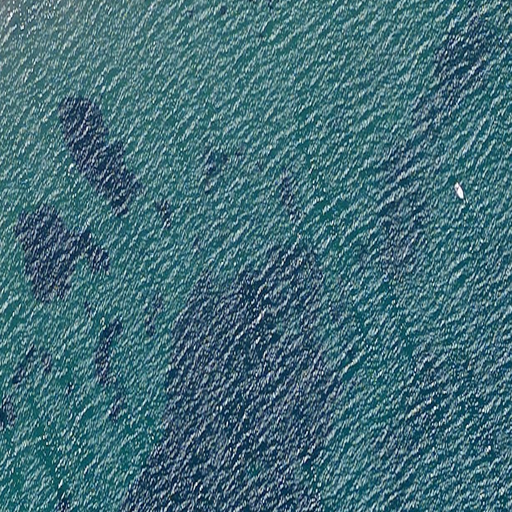ship: (453, 182, 467, 201)
